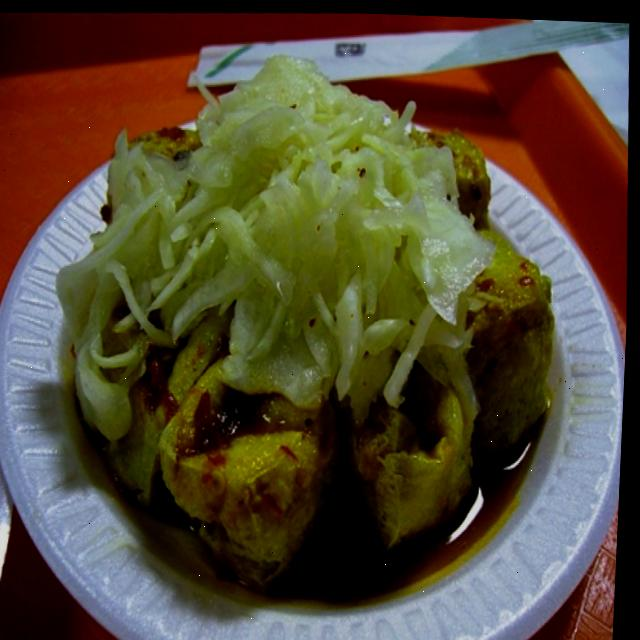豆腐料理: (0, 33, 637, 640)
